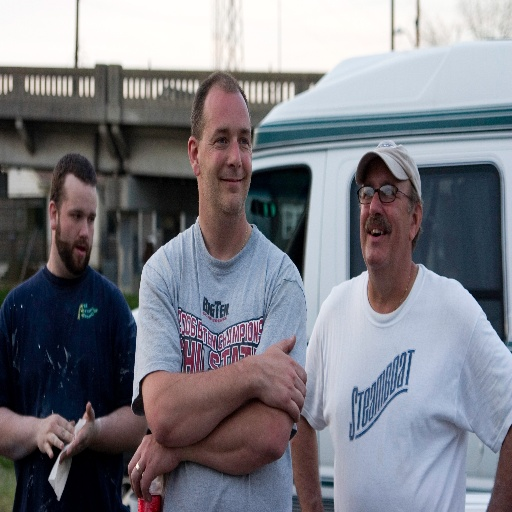hand: (256, 334, 308, 425), (117, 427, 172, 500), (58, 402, 96, 467), (35, 410, 76, 459)
